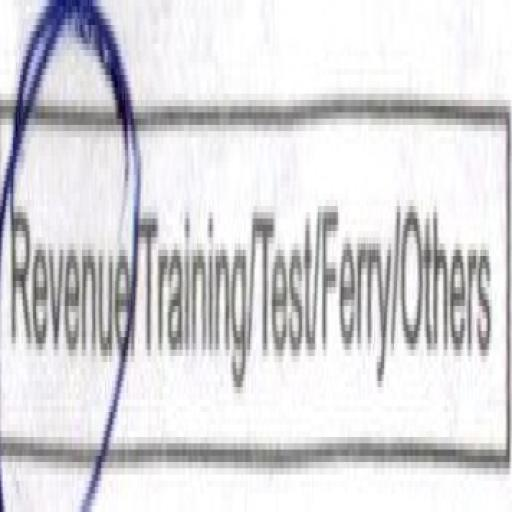check: (0, 0, 135, 512)
